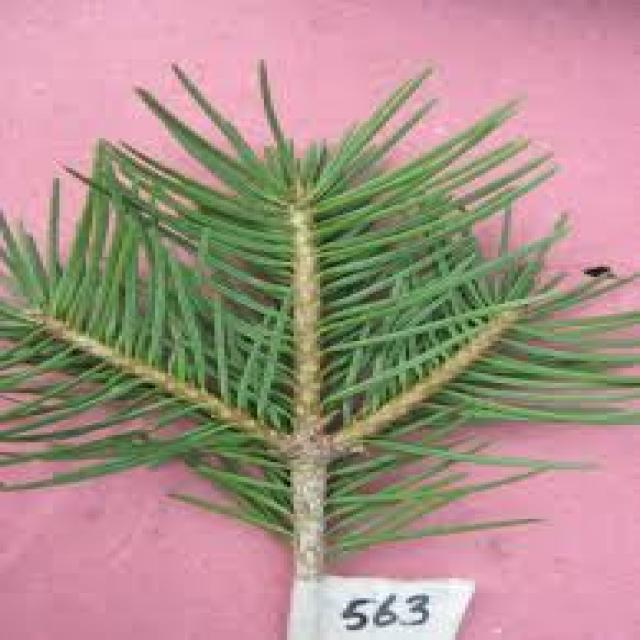Pine: (62, 79, 640, 640)
